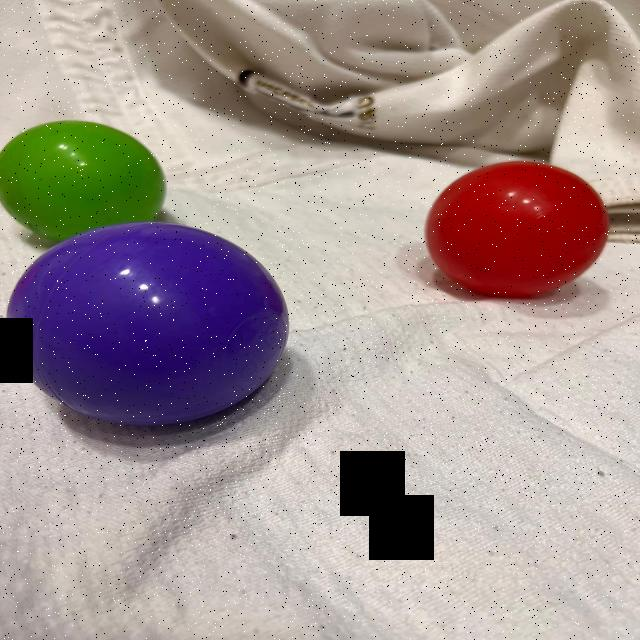ball: (3, 219, 292, 427), (424, 158, 612, 301), (0, 118, 169, 219)
